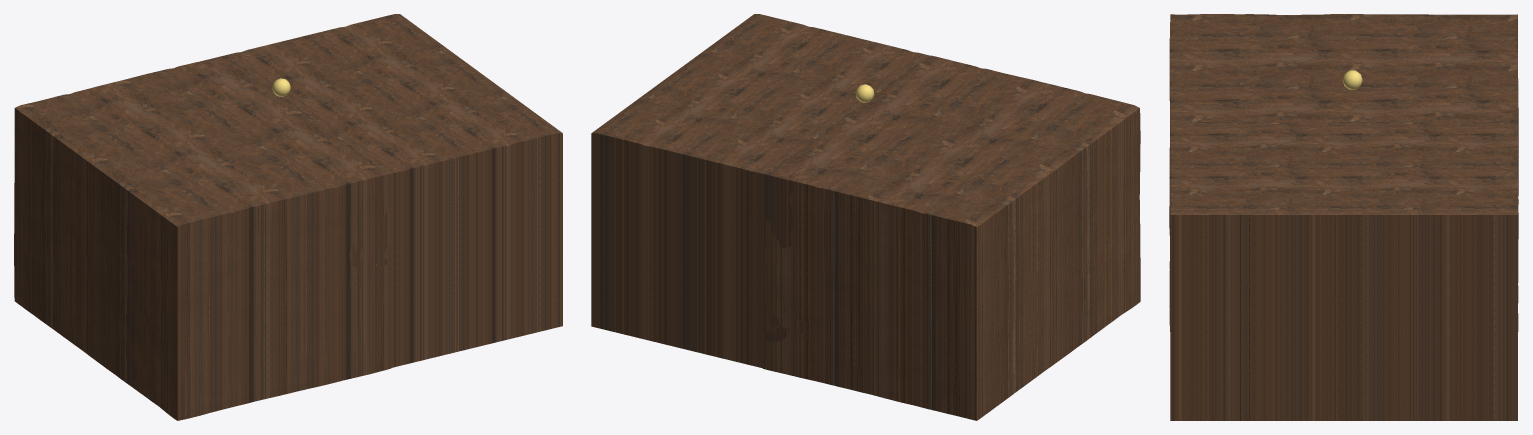
The model's file is earthquakes.glb.
3 views of the same model, side by side, from view 1: azimuth 30°, elevation 25°; view 2: azimuth 150°, elevation 25°; view 3: azimuth 270°, elevation 25° (orthographic). The views are drawn at different scales.
Visible parts, largest first — view 1: Quake_HangingWall, Quake_Footwall; view 2: Quake_HangingWall, Quake_Footwall; view 3: Quake_Footwall, Quake_HangingWall.
Boxes of the visible parts, x1,y1,x2,y2 form: Quake_HangingWall: (14,61,391,420); Quake_Footwall: (200,14,562,367); Quake_HangingWall: (762,55,1140,420); Quake_Footwall: (591,14,930,368); Quake_Footwall: (1170,109,1517,420); Quake_HangingWall: (1169,14,1518,331).
Size of the model in its own units: 2.81 by 1.62 by 2.06.
Materials: 5 (3 with a texture image).
